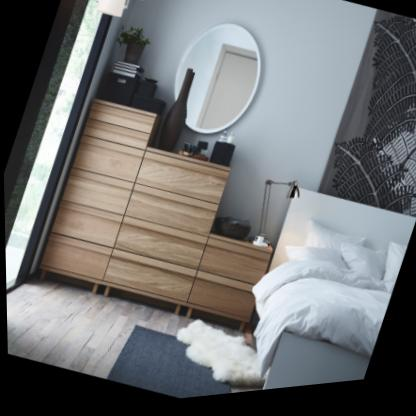Bed: (213, 175, 416, 399)
